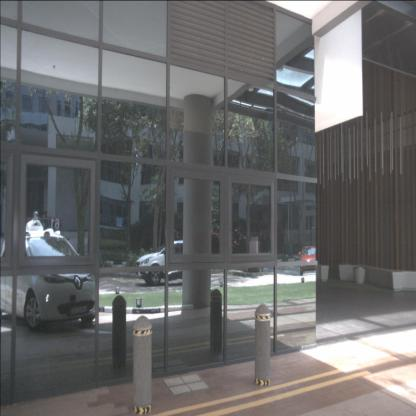vehicle-car: (0, 231, 97, 330), (135, 240, 205, 286), (300, 246, 320, 277)
